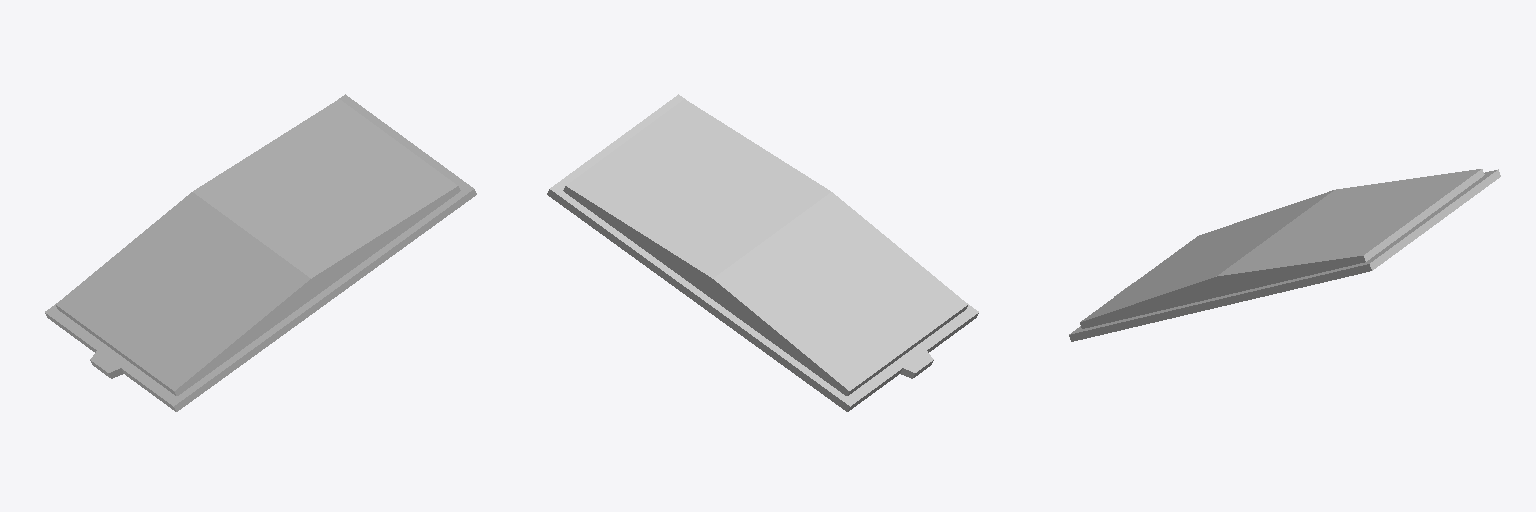
Rendered from DumpsterDoorLeft_A.obj.
3 views of the same model, side by side, from view 1: azimuth 30°, elevation 25°; view 2: azimuth 150°, elevation 25°; view 3: azimuth 330°, elevation 25° (orthographic).
Visible parts, largest first — view 1: DumpsterDoorLeft_A.001_DumpsterDoorLeft.001; view 2: DumpsterDoorLeft_A.001_DumpsterDoorLeft.001; view 3: DumpsterDoorLeft_A.001_DumpsterDoorLeft.001.
Part boxes in pixels (x1,y1,x2,y2): DumpsterDoorLeft_A.001_DumpsterDoorLeft.001: (45, 94, 476, 411); DumpsterDoorLeft_A.001_DumpsterDoorLeft.001: (547, 94, 978, 411); DumpsterDoorLeft_A.001_DumpsterDoorLeft.001: (1069, 169, 1500, 341).
Bounding box in the file's own units: 1.29 × 0.6187 × 0.9193.